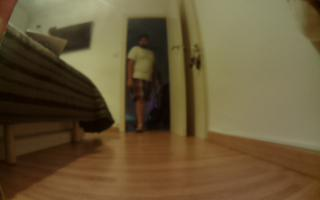person: (127, 33, 165, 133)
